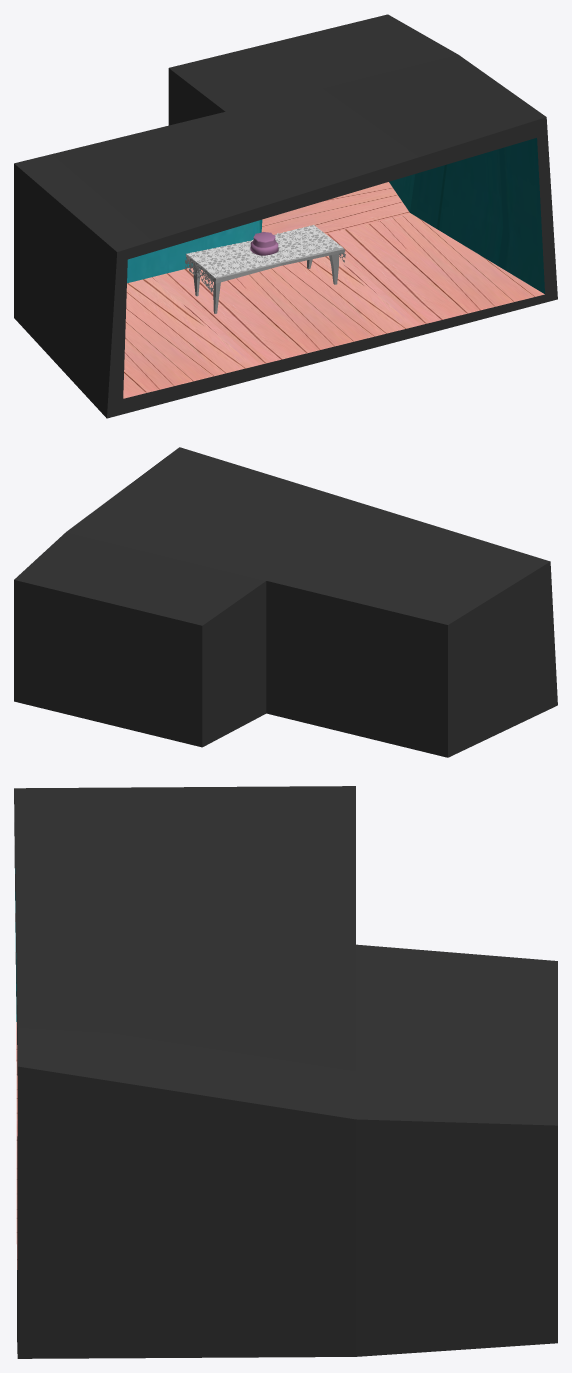
File: sm_cakeScene_combined.fbx
3 renders of one model, top to bottom at view 1: azimuth 30°, elevation 25°; view 2: azimuth 150°, elevation 25°; view 3: azimuth 270°, elevation 25°, orthographic. The views are drawn at different scales.
Visible parts, largest first — view 1: sm_room, sm_table, sm_cloth, sm_cake; view 2: sm_room; view 3: sm_room.
Part boxes in pixels (x1=…): sm_room: x1=14, y1=14, x2=557, y2=418; sm_table: x1=185, y1=225, x2=344, y2=313; sm_cloth: x1=185, y1=225, x2=345, y2=292; sm_cake: x1=250, y1=232, x2=278, y2=255; sm_room: x1=14, y1=447, x2=557, y2=757; sm_room: x1=14, y1=786, x2=557, y2=1358.
Bounding box in the file's own units: 19.26 × 7.71 × 12.78.
6 materials, 2 textured.
